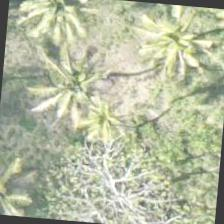Kelapa_Sawit: (50, 77, 148, 175), (36, 22, 134, 120), (130, 1, 223, 94), (11, 0, 107, 57), (0, 154, 54, 219)
